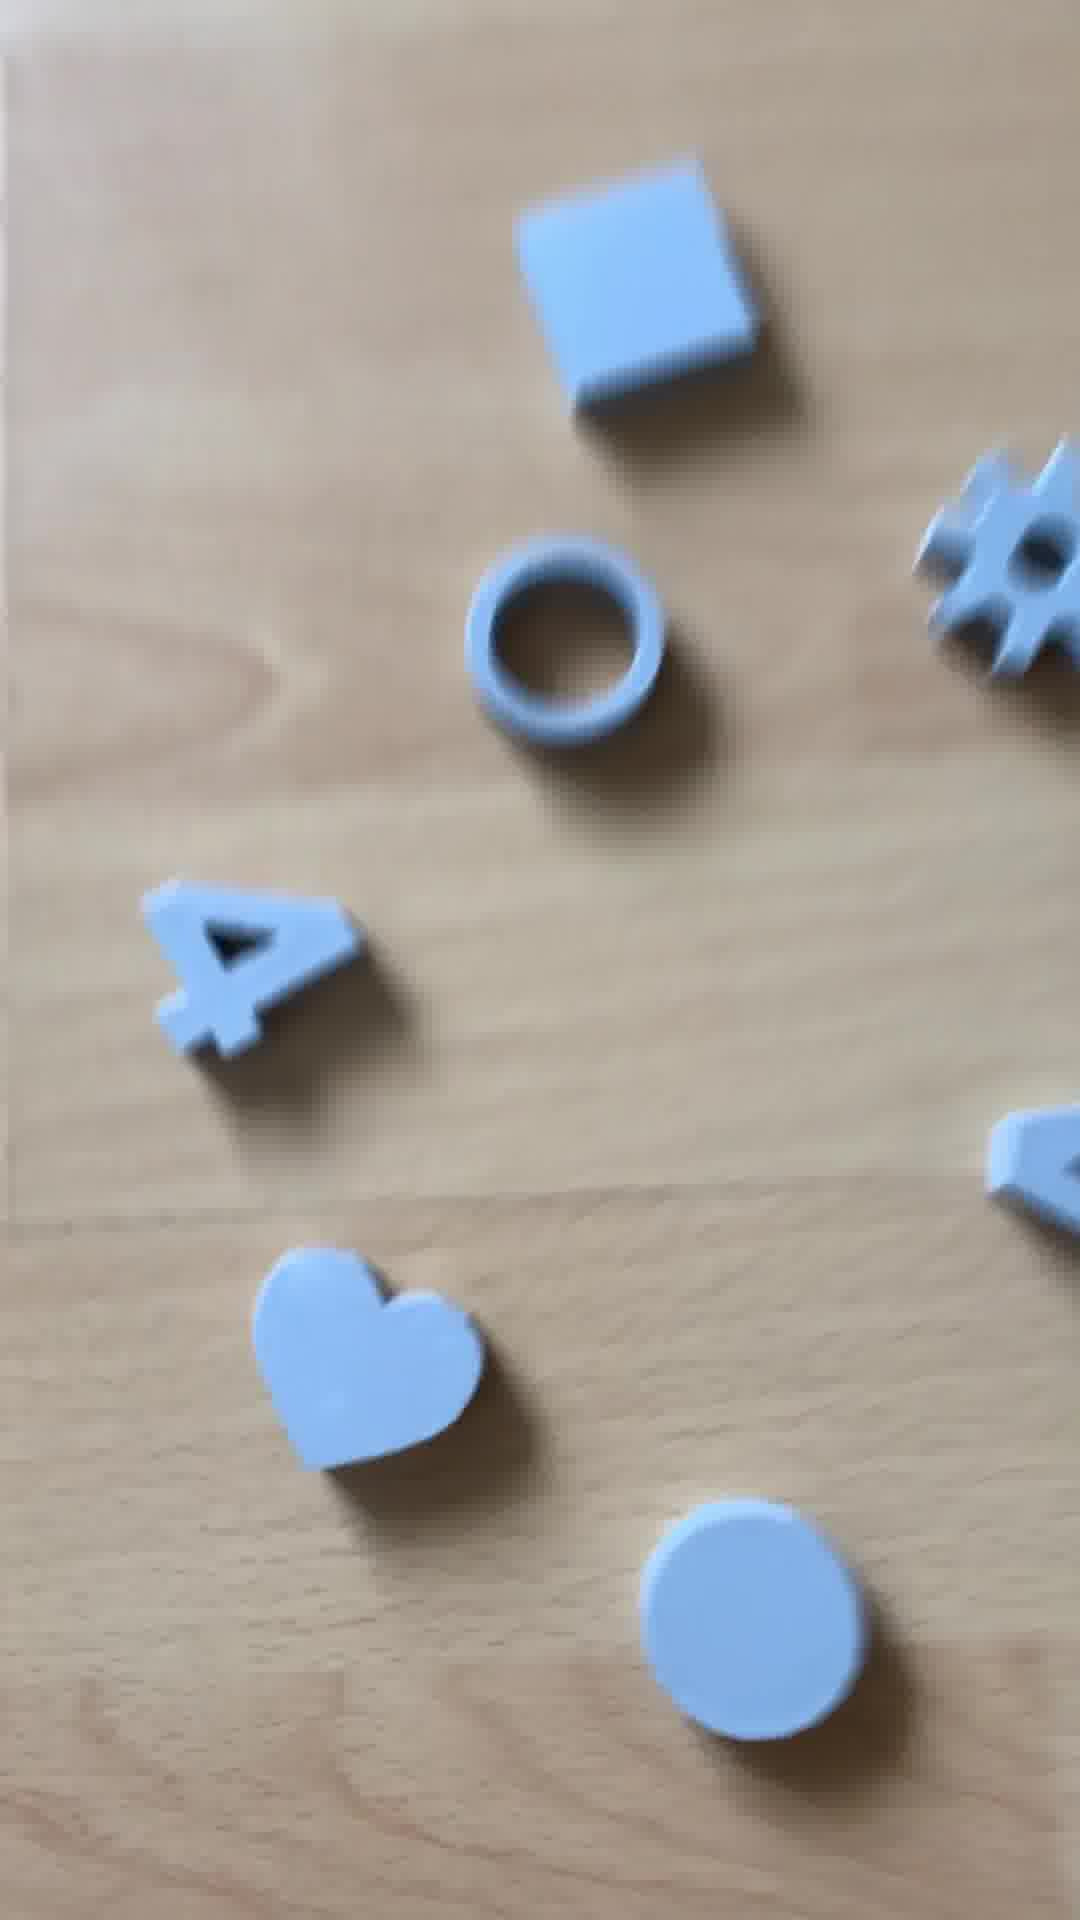Gray circle: (636, 1489, 864, 1753)
Gray four: (142, 862, 360, 1079)
Gray gear: (895, 448, 1080, 684)
Gray heart: (239, 1242, 498, 1480)
Gray ring: (455, 526, 665, 761)
Gray square: (513, 169, 742, 415)
